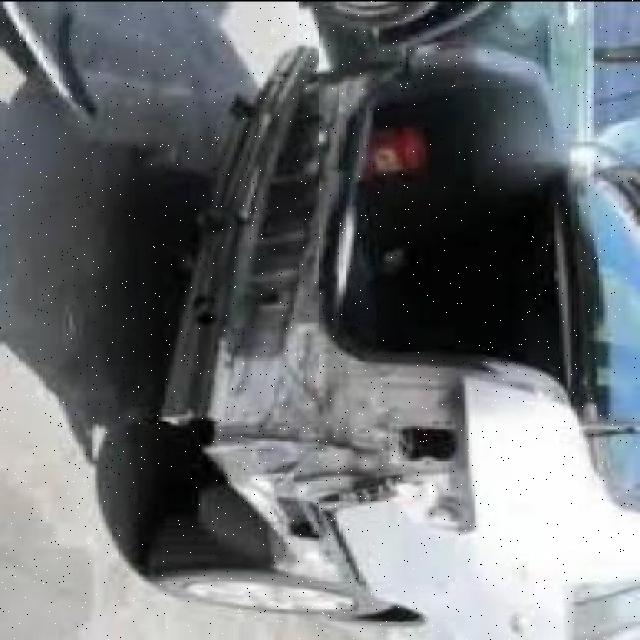damage: (181, 46, 533, 587)
